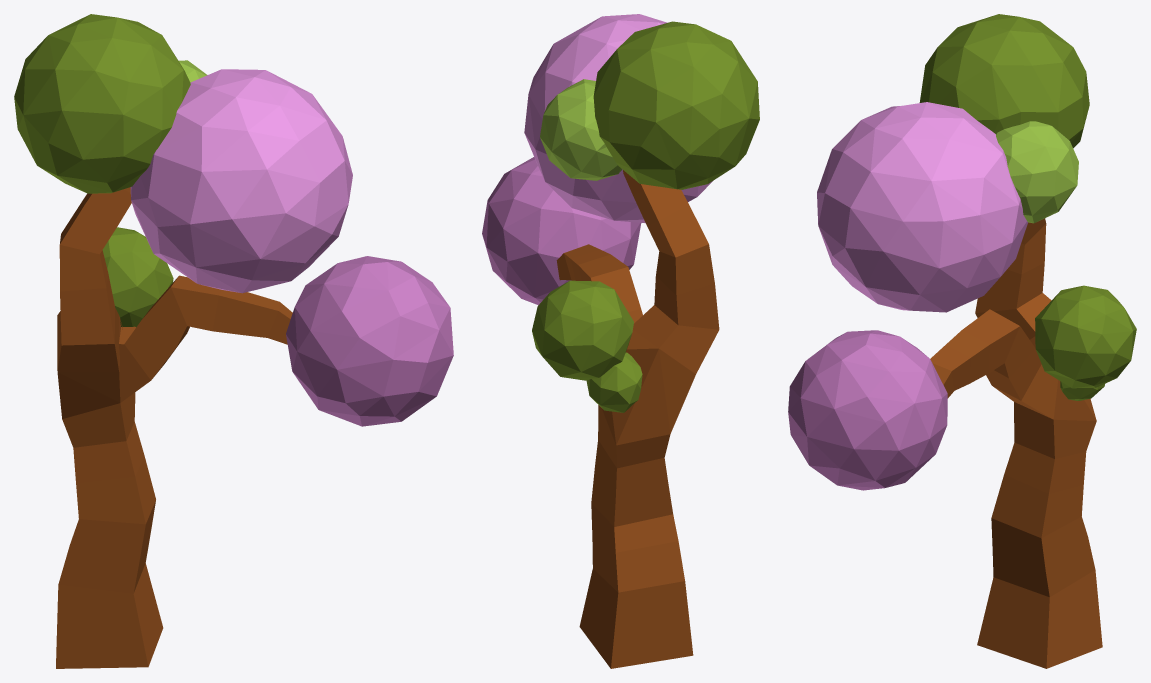
Rendered from tree no 1.fbx.
3 views of the same model, side by side, from view 1: azimuth 30°, elevation 25°; view 2: azimuth 150°, elevation 25°; view 3: azimuth 270°, elevation 25° (orthographic). The views are drawn at different scales.
Visible parts, largest first — view 1: Sphere.078, Cube.003; view 2: Sphere.078, Cube.003; view 3: Sphere.078, Cube.003.
Boxes of the visible parts, left/top/right/bottom form: Sphere.078: left=14, top=14, right=453, bottom=426; Cube.003: left=56, top=187, right=292, bottom=668; Sphere.078: left=482, top=14, right=759, bottom=412; Cube.003: left=556, top=170, right=719, bottom=668; Sphere.078: left=788, top=14, right=1136, bottom=490; Cube.003: left=930, top=218, right=1102, bottom=668.
Bounding box in the file's own units: 167 × 297 × 153.
